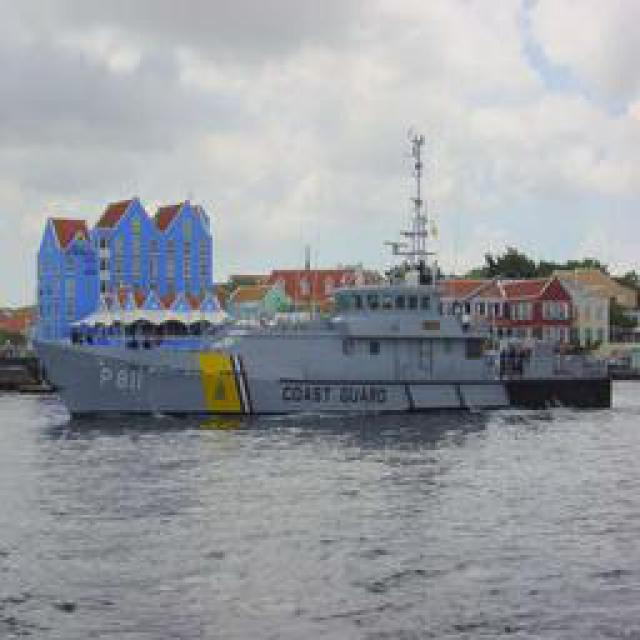Ship: (44, 123, 619, 418)
